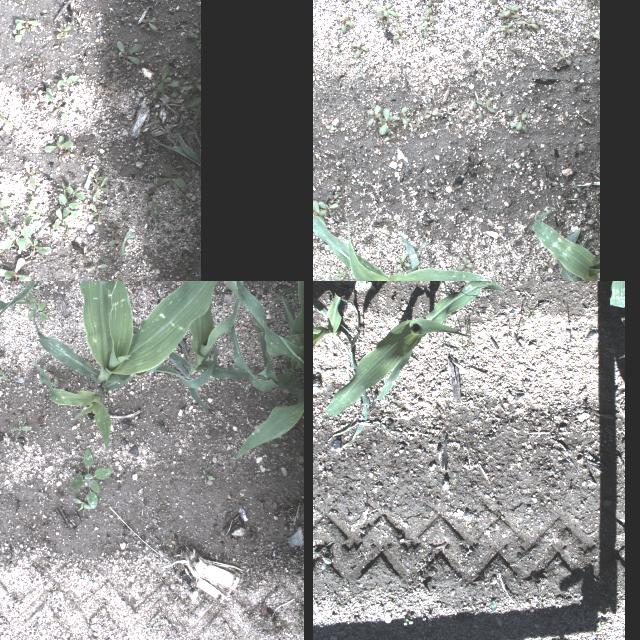crop: (31, 281, 234, 456), (324, 281, 532, 416), (222, 281, 303, 460), (143, 281, 247, 415), (313, 214, 483, 281), (313, 291, 367, 450), (533, 207, 599, 281), (0, 281, 48, 348), (162, 130, 200, 166), (609, 281, 624, 306)
weed: (66, 446, 116, 512), (152, 162, 188, 192), (106, 218, 134, 255), (44, 72, 78, 102), (0, 224, 35, 248), (0, 255, 31, 281), (43, 134, 73, 160), (156, 60, 178, 92), (10, 18, 38, 42), (88, 170, 110, 200), (116, 40, 142, 64), (26, 296, 48, 322), (178, 66, 198, 94), (24, 238, 50, 258), (58, 190, 78, 216), (57, 180, 85, 198), (10, 418, 34, 438), (52, 208, 72, 230), (516, 16, 538, 36), (24, 199, 40, 225), (378, 108, 394, 134), (390, 105, 410, 125), (334, 14, 354, 34), (89, 202, 107, 224), (182, 93, 200, 115), (371, 3, 397, 17), (144, 200, 162, 220), (53, 100, 71, 120), (350, 38, 368, 58), (366, 103, 382, 125), (313, 270, 341, 281), (474, 98, 496, 112), (170, 198, 188, 215), (146, 18, 164, 34), (458, 256, 474, 274), (200, 466, 217, 482), (23, 160, 34, 184), (416, 20, 432, 36), (54, 24, 72, 38), (0, 197, 9, 225), (59, 219, 77, 233), (313, 200, 326, 219), (332, 267, 348, 281), (394, 254, 410, 268), (502, 1, 518, 15), (557, 49, 571, 65), (316, 200, 338, 210), (188, 21, 200, 39), (515, 112, 527, 130), (509, 121, 529, 131), (420, 8, 434, 22), (498, 22, 514, 34), (376, 9, 386, 27), (85, 262, 106, 270), (290, 609, 302, 623), (424, 109, 438, 119), (0, 369, 9, 384), (46, 588, 59, 598), (572, 180, 582, 192), (392, 28, 402, 40), (500, 12, 520, 18), (594, 620, 604, 632), (476, 102, 482, 120), (330, 204, 340, 214), (327, 194, 339, 202), (490, 596, 496, 610), (482, 0, 502, 4), (82, 245, 86, 263), (324, 124, 334, 130), (122, 426, 128, 436), (376, 422, 384, 428), (426, 0, 432, 7), (620, 316, 624, 326), (404, 618, 414, 622), (438, 346, 444, 352), (367, 0, 371, 8), (591, 34, 599, 38), (528, 312, 532, 318)
